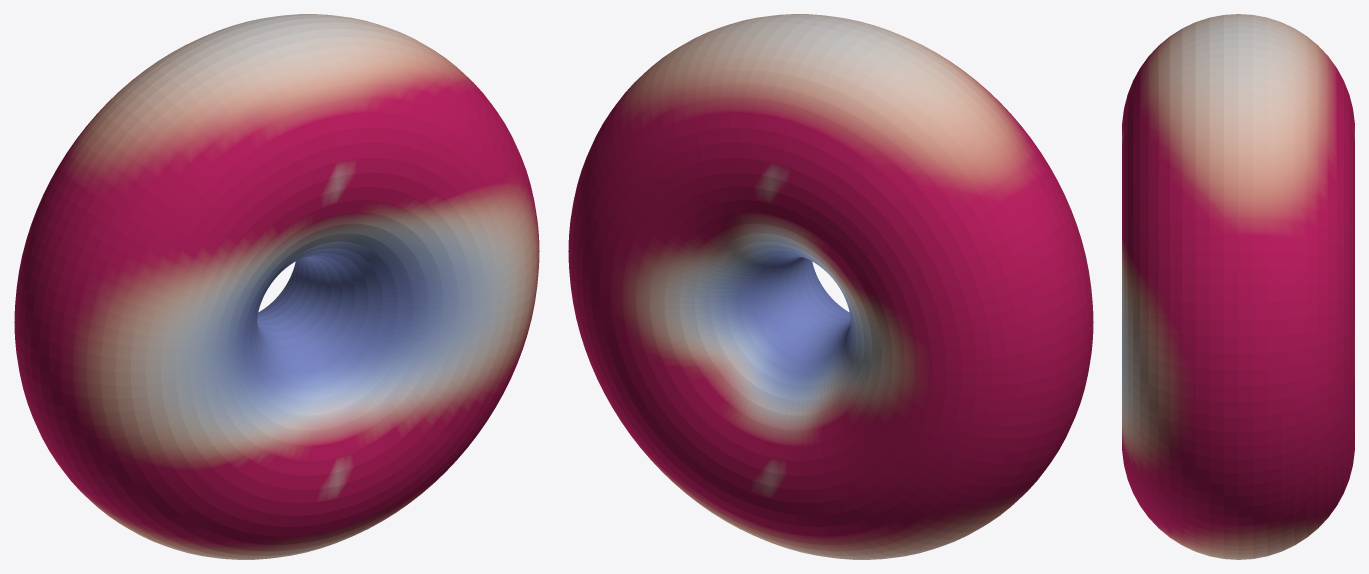
3 renders of one model, left to right at view 1: azimuth 30°, elevation 25°; view 2: azimuth 150°, elevation 25°; view 3: azimuth 270°, elevation 25°, orthographic. The views are drawn at different scales.
Visible parts, largest first — view 1: world; view 2: world; view 3: world.
Boxes of the visible parts, <box> form: world: <box>14,14,539,559</box>; world: <box>568,14,1093,559</box>; world: <box>1122,14,1354,559</box>.
Bounding box in the file's own units: 21.33 × 21.33 × 9.09.
